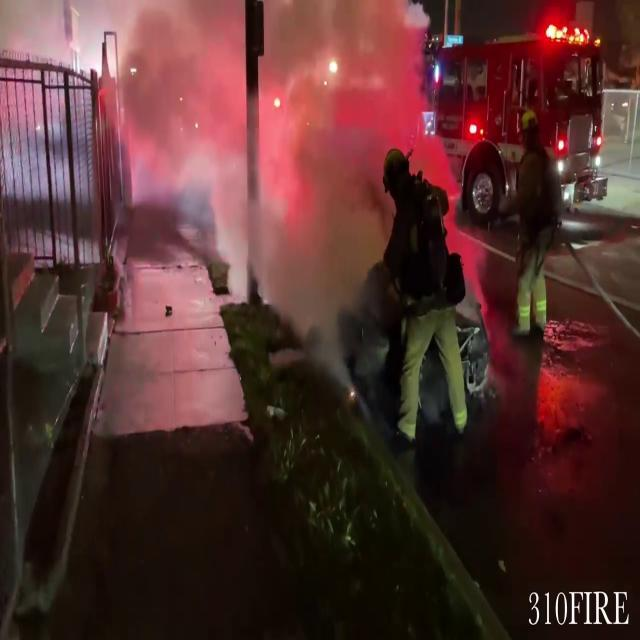Smoke: (101, 0, 418, 321), (250, 0, 415, 369), (102, 1, 246, 258)
